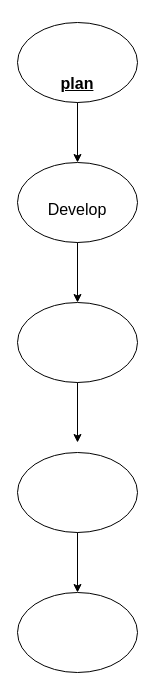
Image size: 155x690. Some labels were removed from this diagram. The centre of each missing label's shape, as x and y in pixels:
Build: [77,342]
Release: [77,632]
